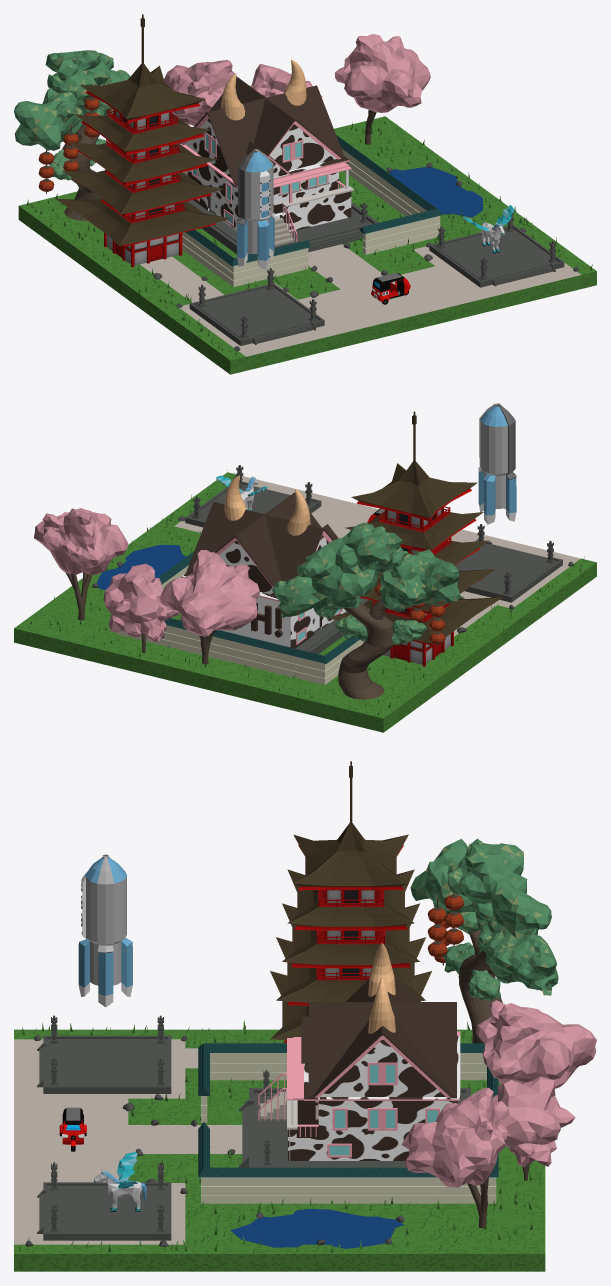
3 renders of one model, top to bottom at view 1: azimuth 30°, elevation 25°; view 2: azimuth 150°, elevation 25°; view 3: azimuth 270°, elevation 25°, orthographic. The views are drawn at different scales.
Parts seen in each view (by area): view 1: Cube.005, Cube.1242, OBJRANDOM_ROCKETSHIP, VEHICLES_TUC_TUC, ANIMAL_PEGASO; view 2: Cube.005, Cube.1242, OBJRANDOM_ROCKETSHIP, ANIMAL_PEGASO; view 3: Cube.005, Cube.1242, OBJRANDOM_ROCKETSHIP, ANIMAL_PEGASO, VEHICLES_TUC_TUC.
Part boxes in pixels (x1=…): Cube.005: x1=14, y1=14, x2=596, y2=374; Cube.1242: x1=178, y1=59, x2=353, y2=246; OBJRANDOM_ROCKETSHIP: x1=236, y1=149, x2=274, y2=269; VEHICLES_TUC_TUC: x1=371, y1=272, x2=410, y2=304; ANIMAL_PEGASO: x1=463, y1=205, x2=514, y2=253; Cube.005: x1=14, y1=411, x2=596, y2=732; Cube.1242: x1=181, y1=475, x2=346, y2=648; OBJRANDOM_ROCKETSHIP: x1=478, y1=403, x2=516, y2=524; ANIMAL_PEGASO: x1=216, y1=475, x2=267, y2=510; Cube.005: x1=14, y1=761, x2=596, y2=1271; Cube.1242: x1=258, y1=943, x2=460, y2=1160; OBJRANDOM_ROCKETSHIP: x1=78, y1=854, x2=132, y2=1007; ANIMAL_PEGASO: x1=93, y1=1152, x2=146, y2=1211; VEHICLES_TUC_TUC: x1=59, y1=1107, x2=86, y2=1151.
Size of the model in its own units: 4528 by 2698 by 4389.
47 materials, 5 textured.
